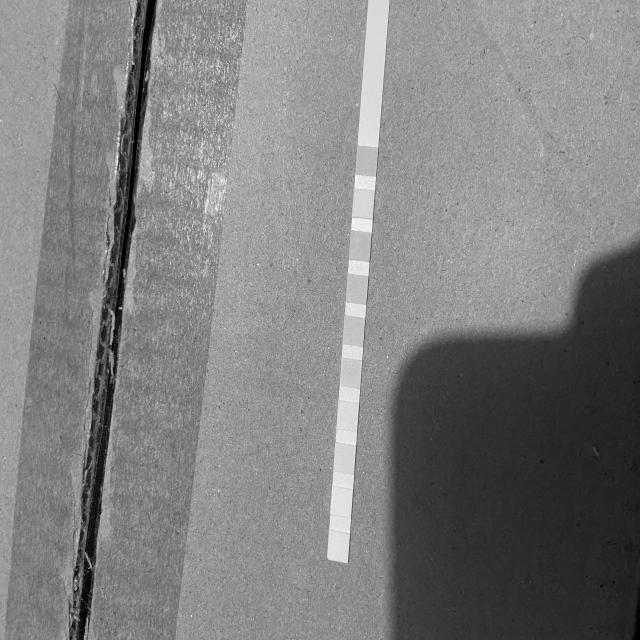Bilirubin: (355, 192, 372, 217)
Blood: (345, 319, 363, 343)
Glucose: (358, 148, 376, 174)
Ketone: (350, 233, 370, 259)
Leukocytes: (329, 534, 348, 559)
Nitrite: (332, 489, 351, 513)
Protein: (338, 405, 358, 428)
SpGravity: (348, 277, 366, 300)
Urobilinogen: (336, 447, 354, 471)
background: (0, 0, 640, 640)
pH: (342, 361, 361, 385)
strip: (327, 0, 389, 566)
